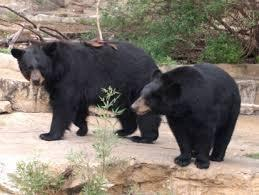bear: (11, 39, 241, 168)
